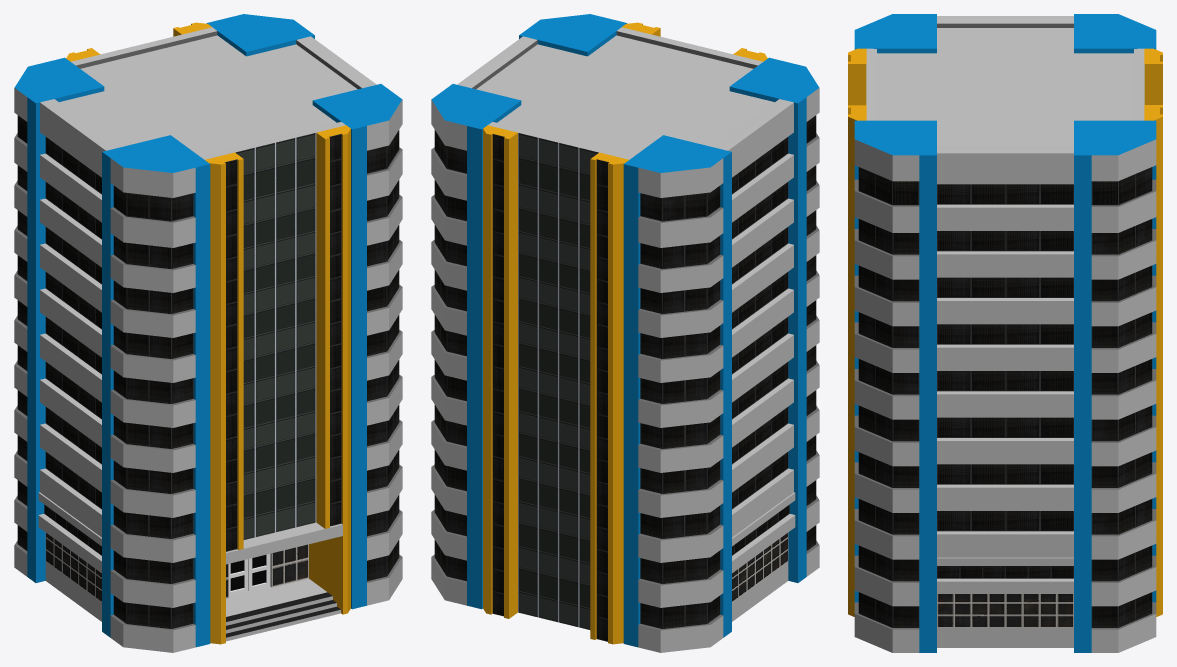
3 renders of one model, left to right at view 1: azimuth 30°, elevation 25°; view 2: azimuth 150°, elevation 25°; view 3: azimuth 270°, elevation 25°, orthographic. The views are drawn at different scales.
Visible parts, largest first — view 1: Building; view 2: Building; view 3: Building.
Part boxes in pixels (<box>): Building: <box>14,14,402,652</box>; Building: <box>431,14,819,652</box>; Building: <box>848,14,1162,652</box>.
Size of what is drawn, in the model's own units: 19.48 by 32 by 18.34.
